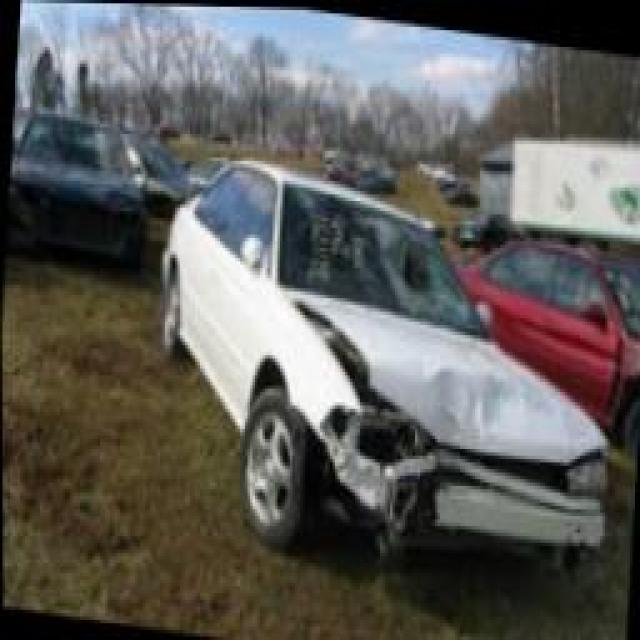Bonnet: (287, 291, 608, 459)
Bumper: (317, 435, 607, 566)
Light: (355, 407, 435, 463)
